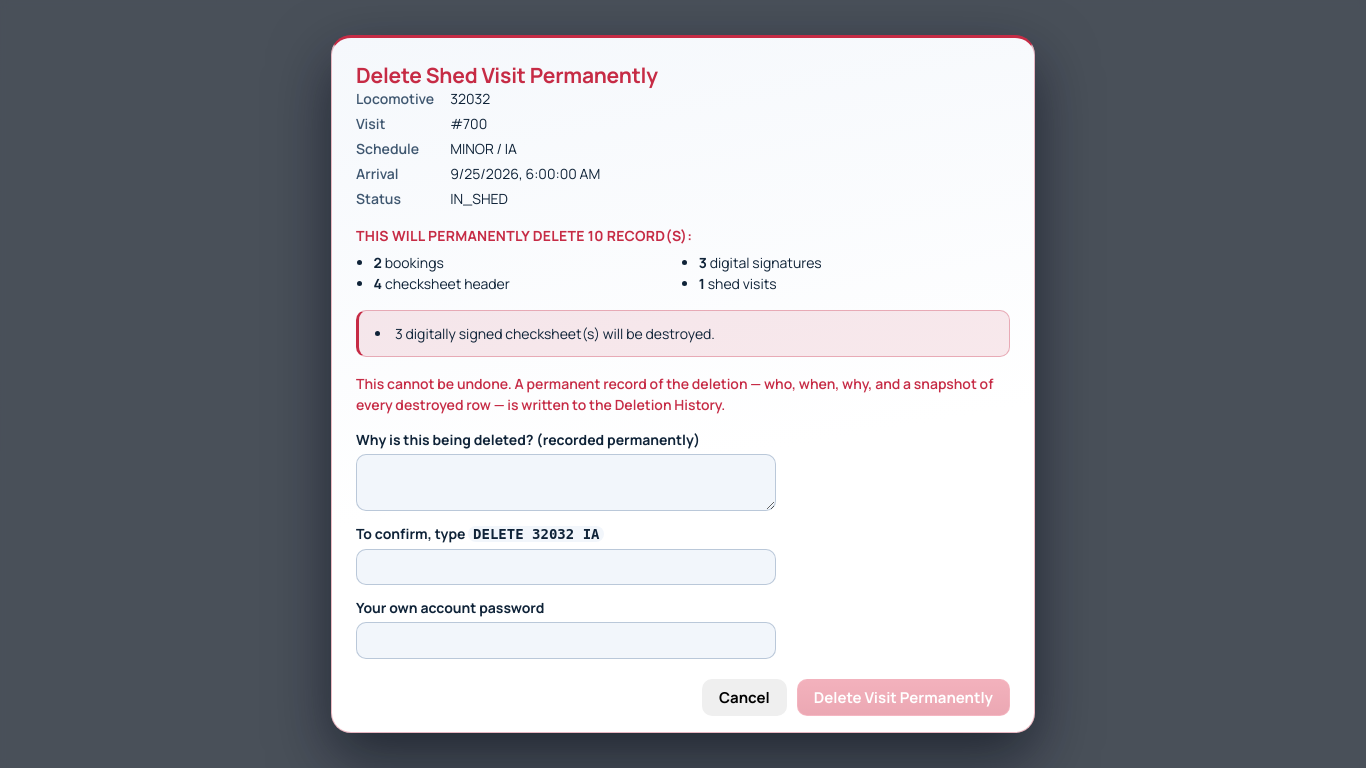
Test: DeleteShedVisitDialog › clears the password and keeps the dialog open when the server refuses
Expected: the text "32032" is shown, [450,89,490,108]
Type "mistaken test entry here" into the text box labelled "Why is this being deleted? (recorded permanently)" at (566, 482), box [356,454,776,511]
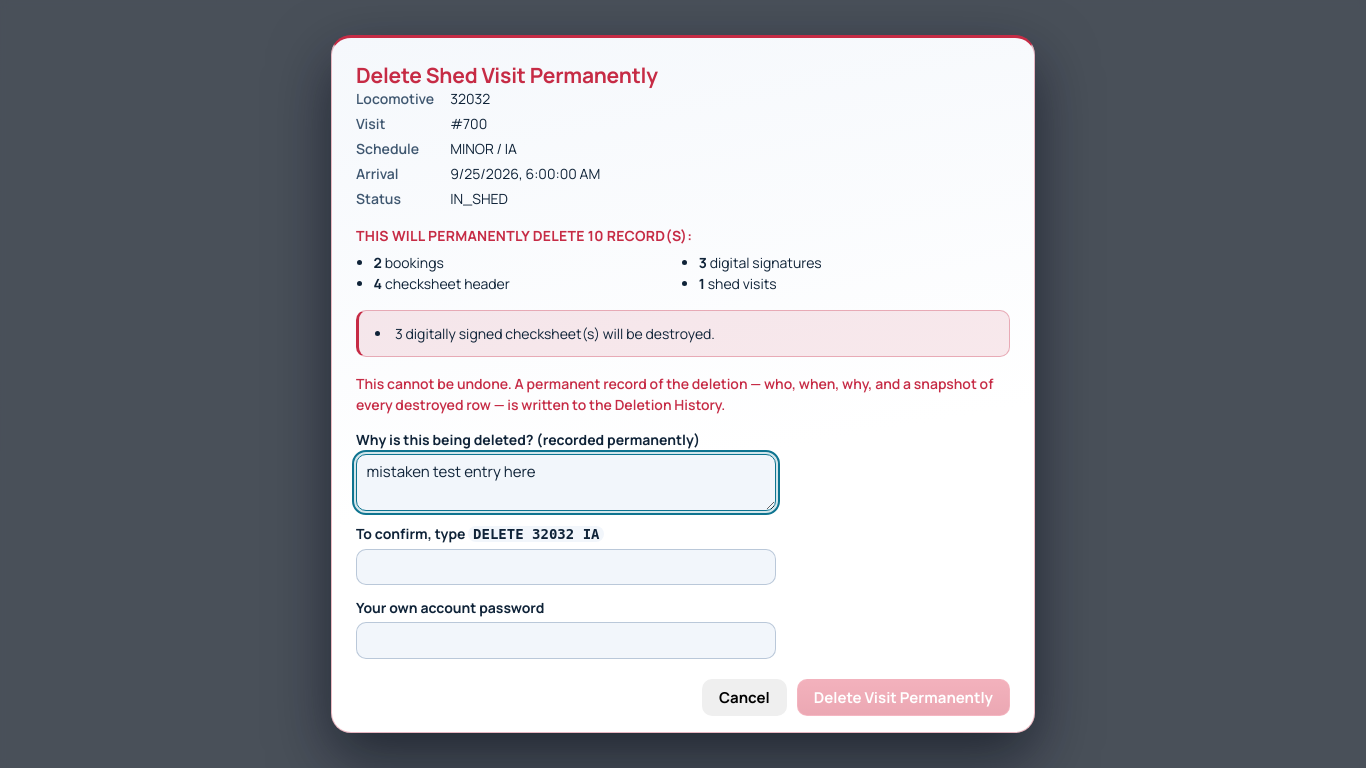
Type "DELETE 32032 IA" into the field labelled "To confirm, type DELETE 32032 IA" at (566, 567), box [356,549,776,585]
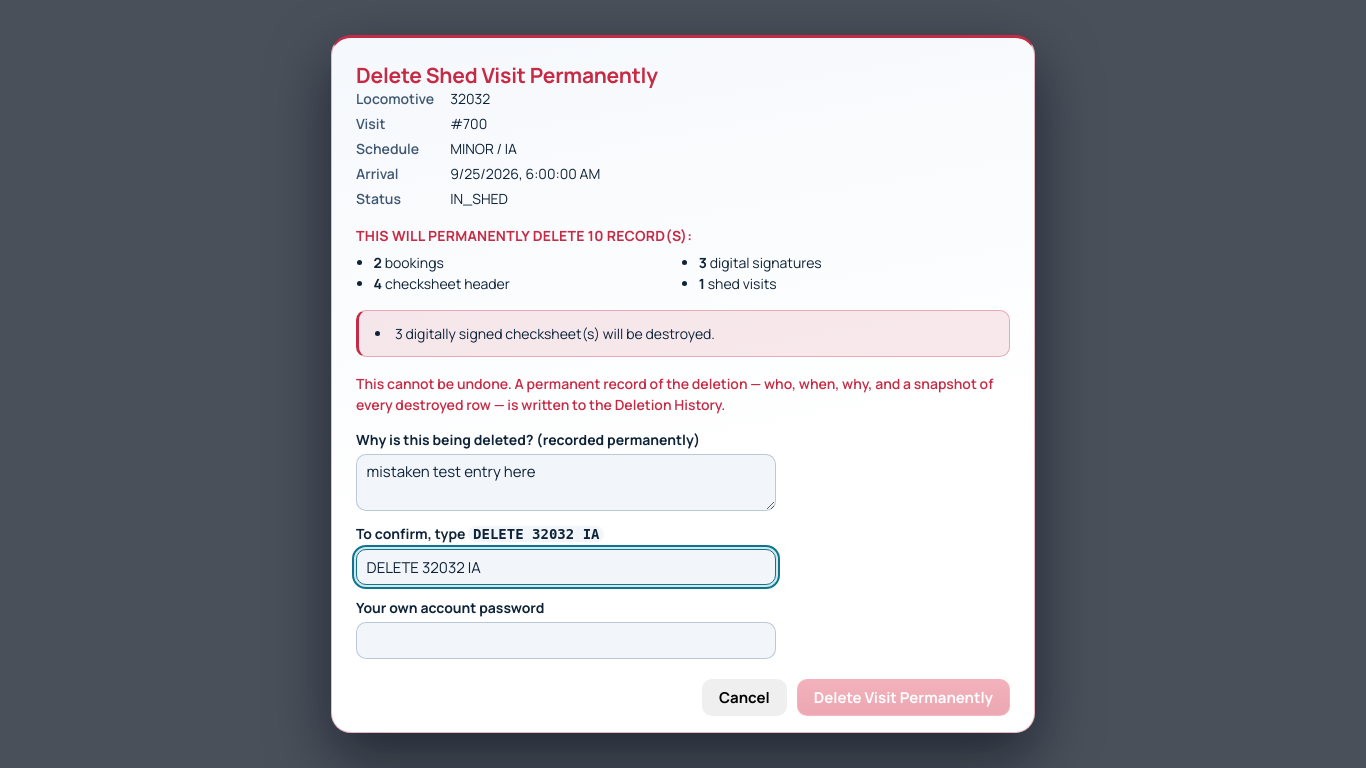
Type "wrong-password" into the password field labelled "Your own account password" at (566, 641), box [356,622,776,659]
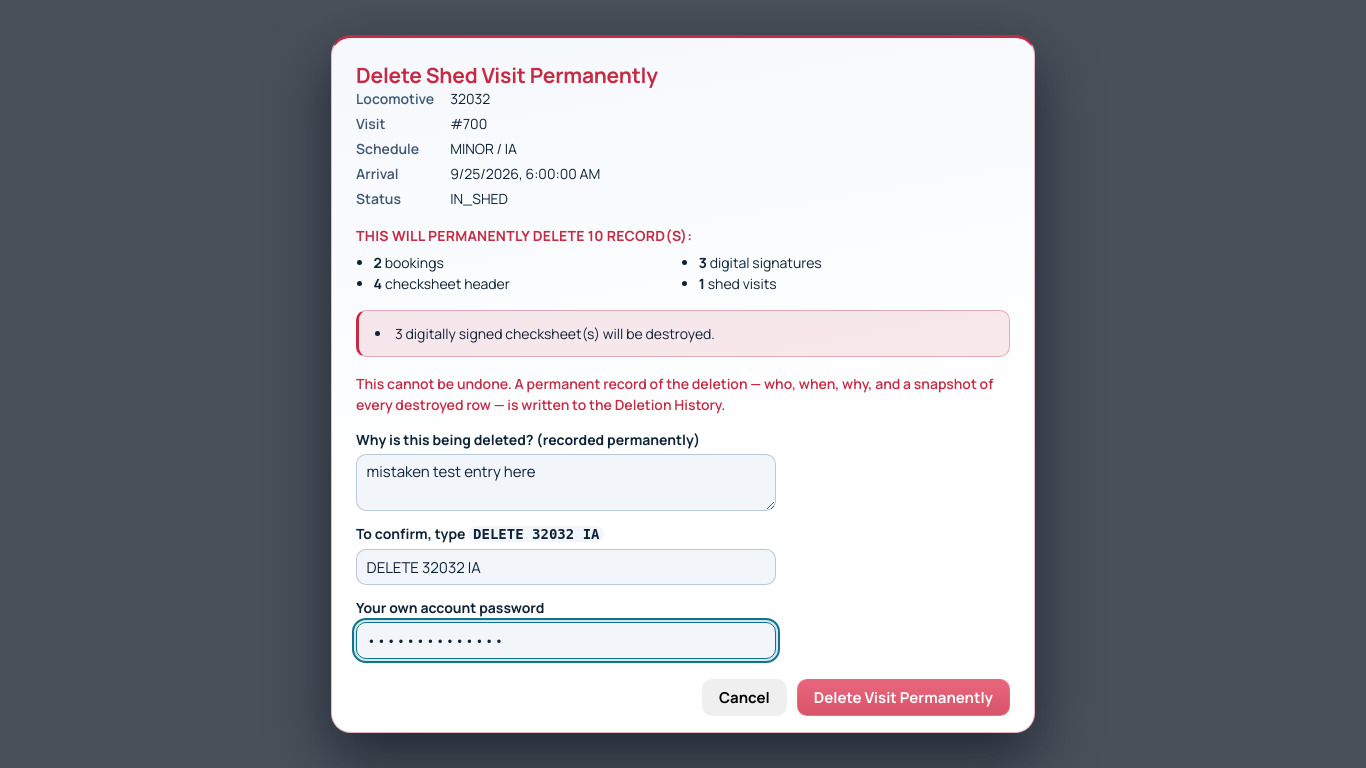
Click the button "Delete Visit Permanently" at (903, 698), box [797,679,1010,716]
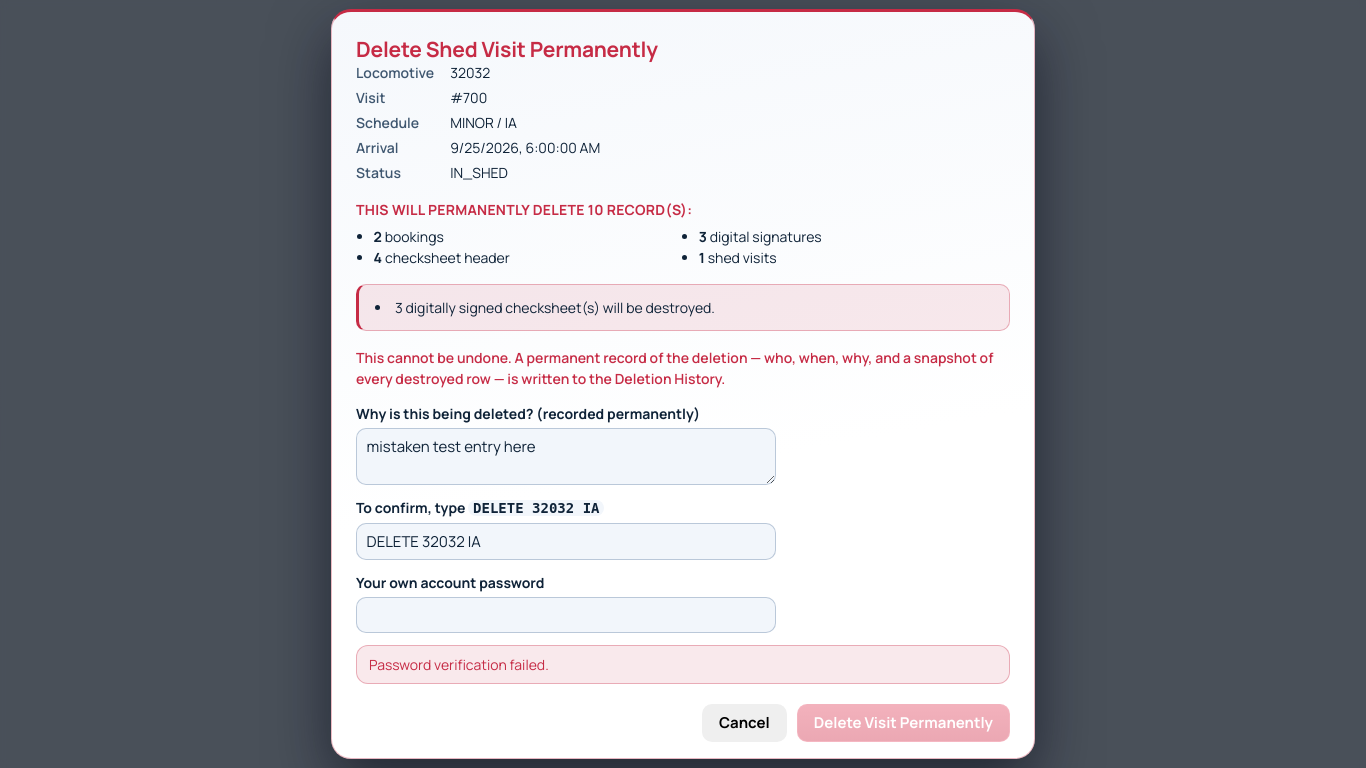
Result: the text "Password verification failed." is shown at [356,645,1010,684]
Result: the password field labelled "Your own account password" is empty at [356,597,776,633]
Result: the button "Delete Visit Permanently" is disabled at [797,704,1010,742]
